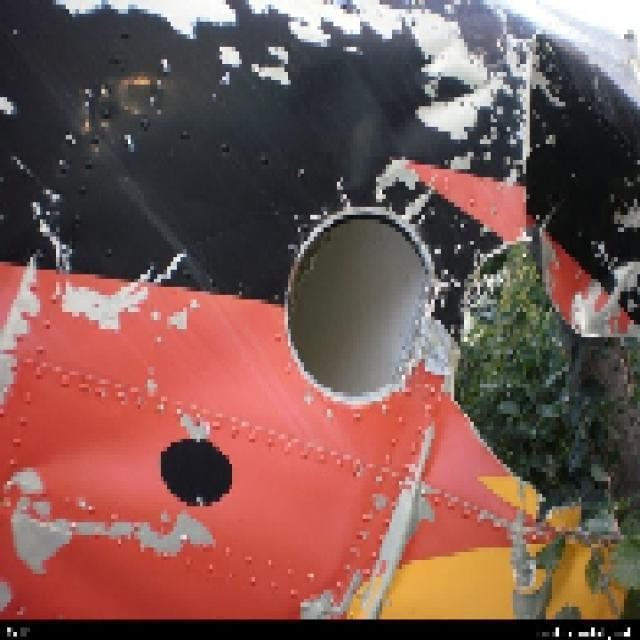dent: (296, 63, 428, 196), (8, 420, 152, 492)
